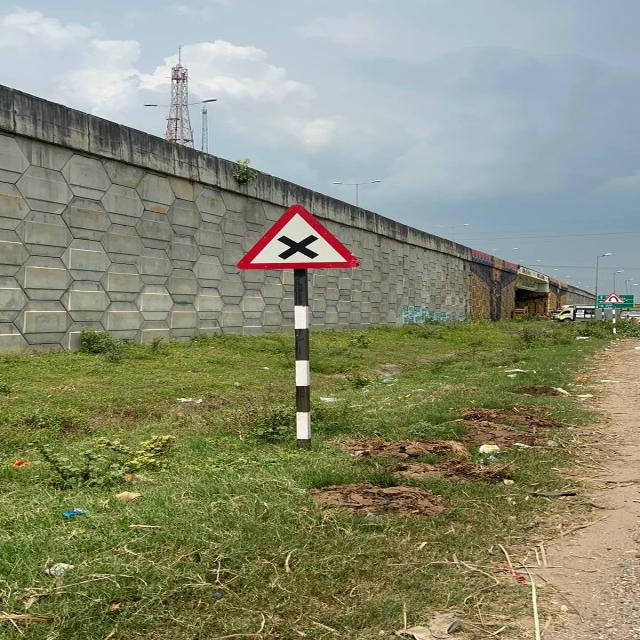Crossroads: (233, 204, 356, 271)
